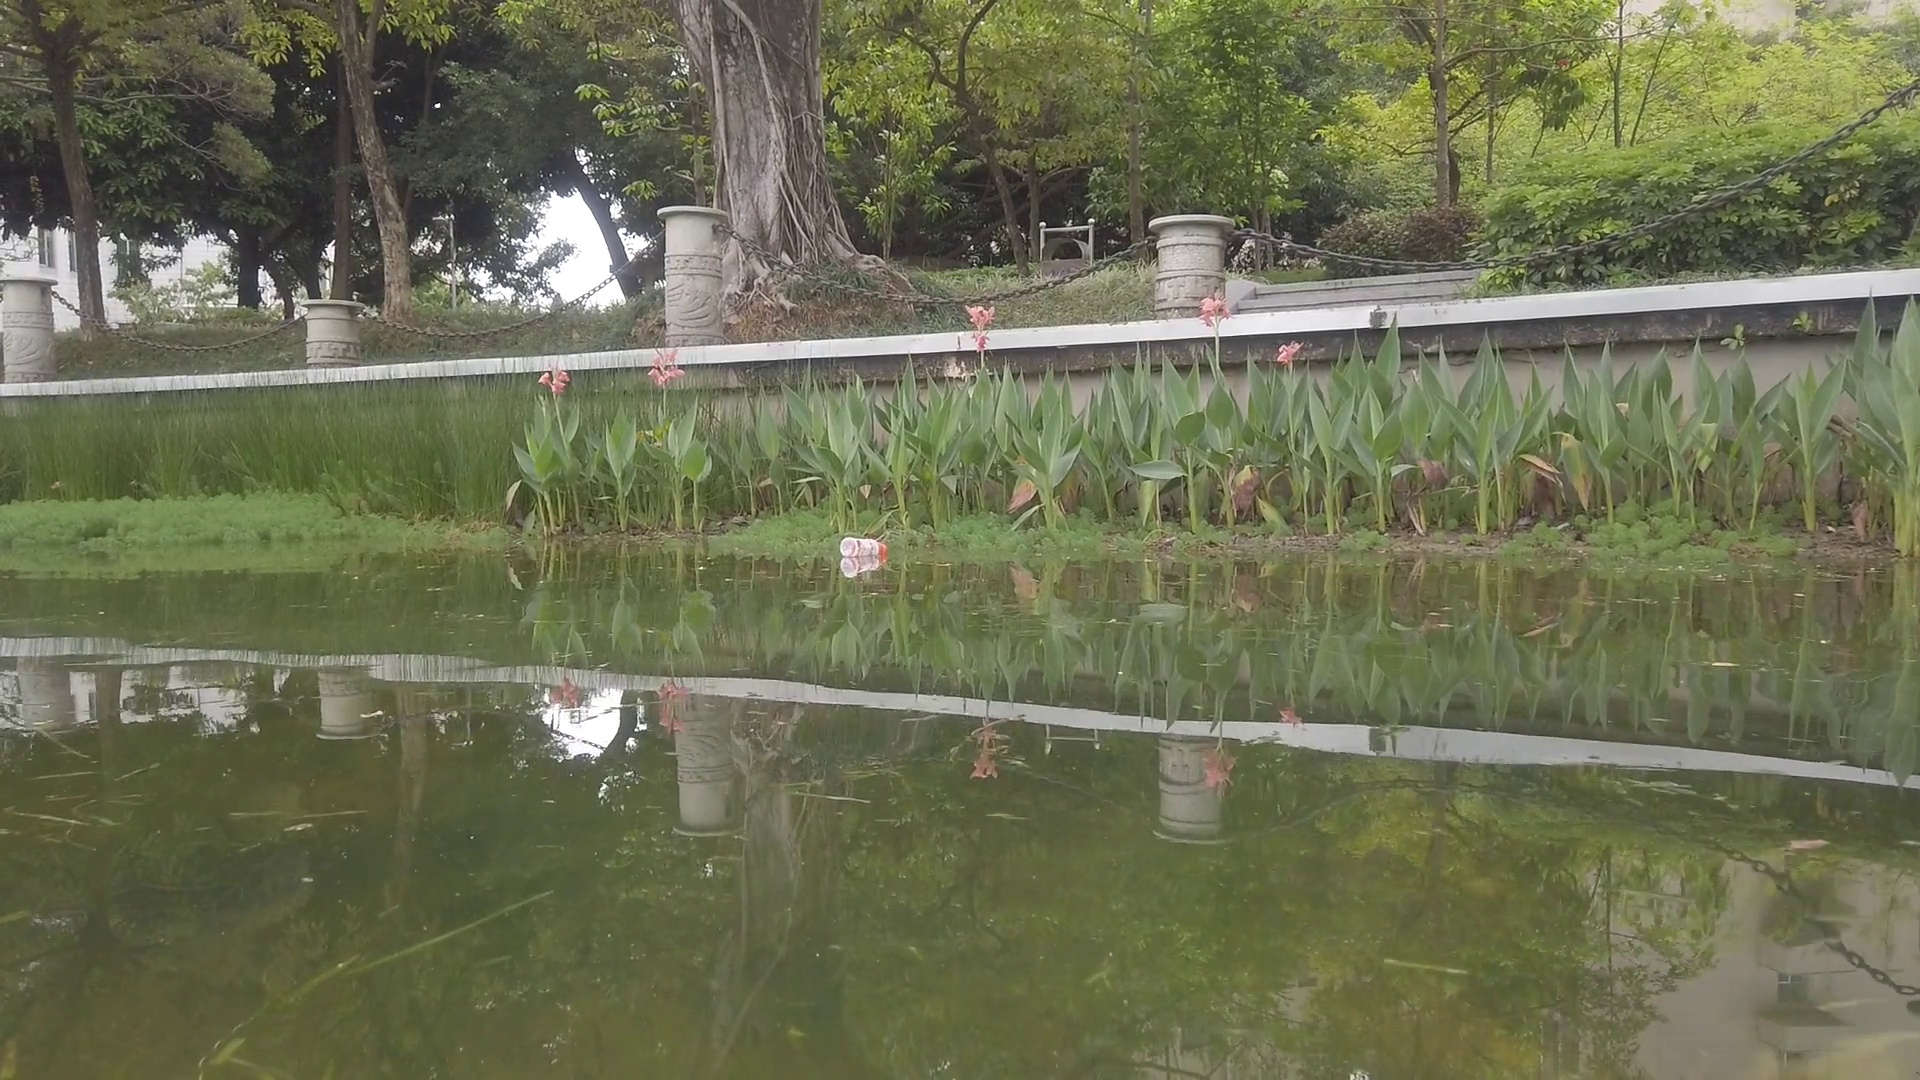bottle: (840, 537, 889, 559)
